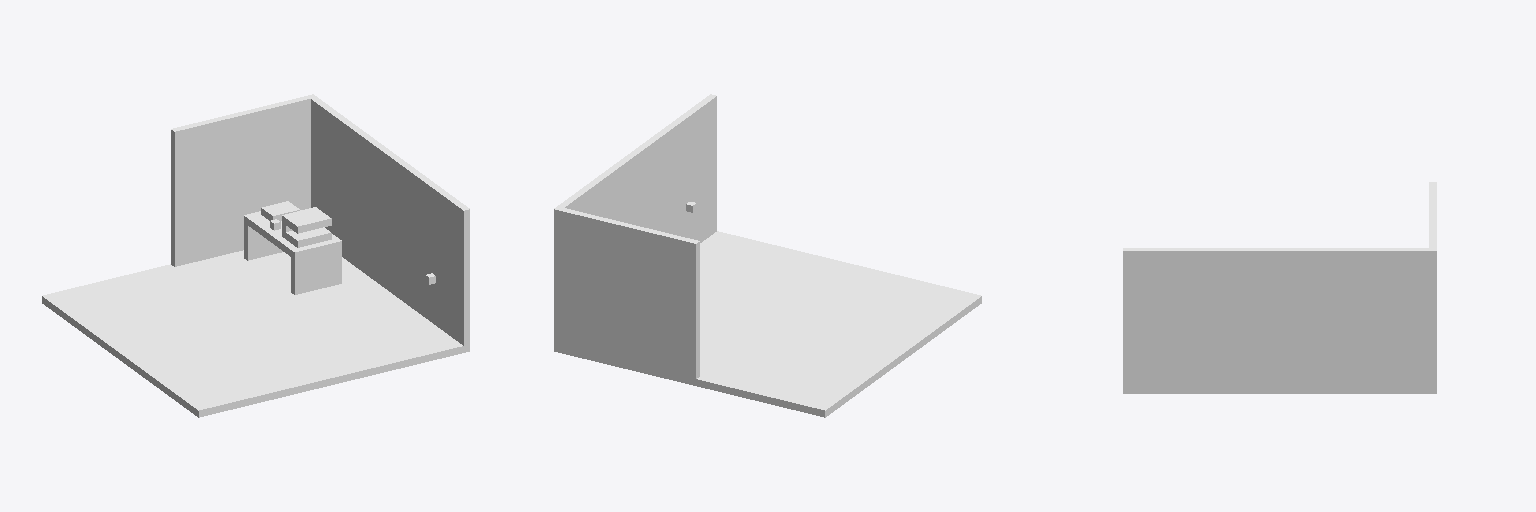
The model's file is level_three-17.obj.
3 renders of one model, left to right at view 1: azimuth 30°, elevation 25°; view 2: azimuth 150°, elevation 25°; view 3: azimuth 270°, elevation 25°, orthographic.
Parts seen in each view (by area): view 1: level_three-17; view 2: level_three-17; view 3: level_three-17.
Boxes of the visible parts, <box> form: level_three-17: <box>42,94,469,417</box>; level_three-17: <box>554,94,981,417</box>; level_three-17: <box>1123,182,1436,393</box>.
Size of the model in its own units: 40 by 20 by 40.